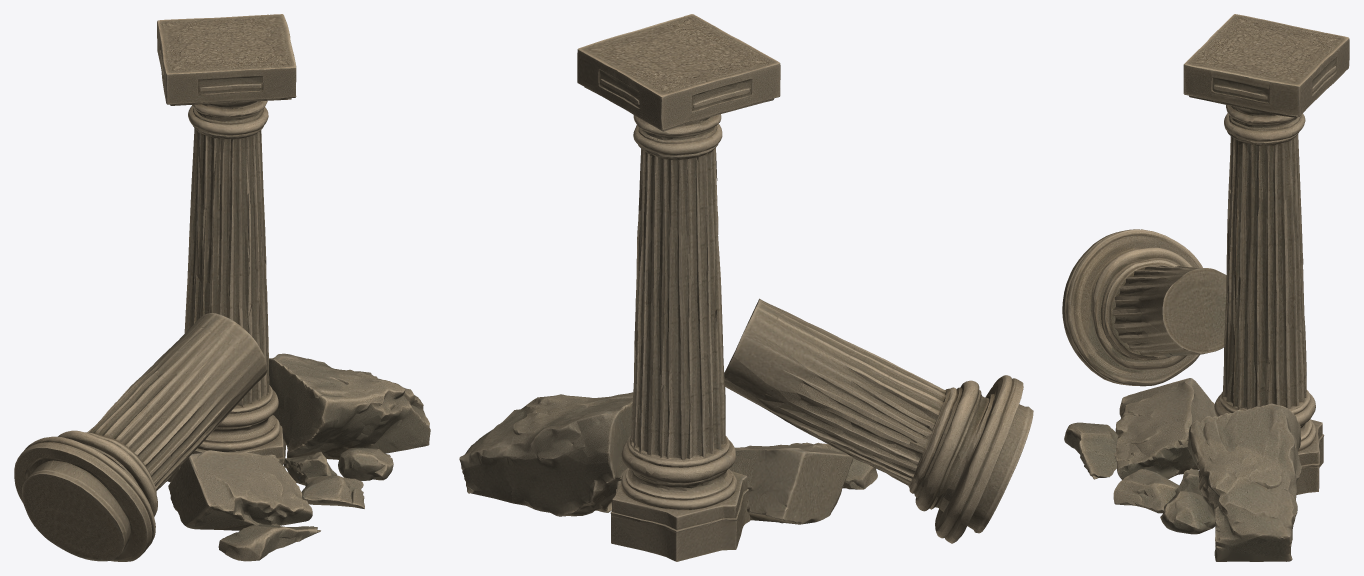
The model's file is broken_column.glb.
3 renders of one model, left to right at view 1: azimuth 30°, elevation 25°; view 2: azimuth 150°, elevation 25°; view 3: azimuth 270°, elevation 25°, orthographic. The views are drawn at different scales.
Size of the model in its own units: 1.9 by 1.76 by 1.08.
Materials: 1 (1 with a texture image).
